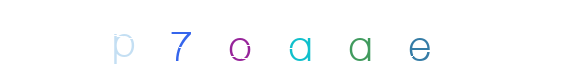7: (199, 0, 279, 80)
A: (261, 0, 341, 80), (281, 0, 361, 80)
E: (321, 0, 401, 80)
O: (250, 0, 330, 80)
P: (195, 0, 275, 80)
